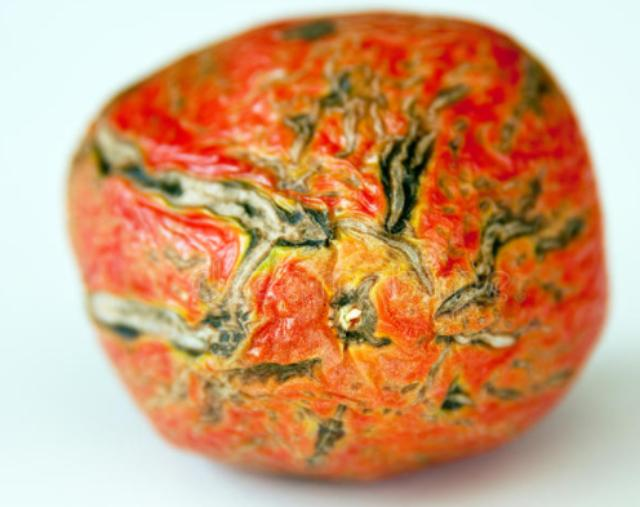defect: (58, 0, 615, 488)
